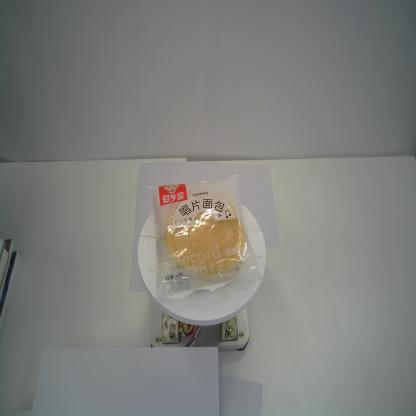Dessert: (146, 172, 266, 301)
